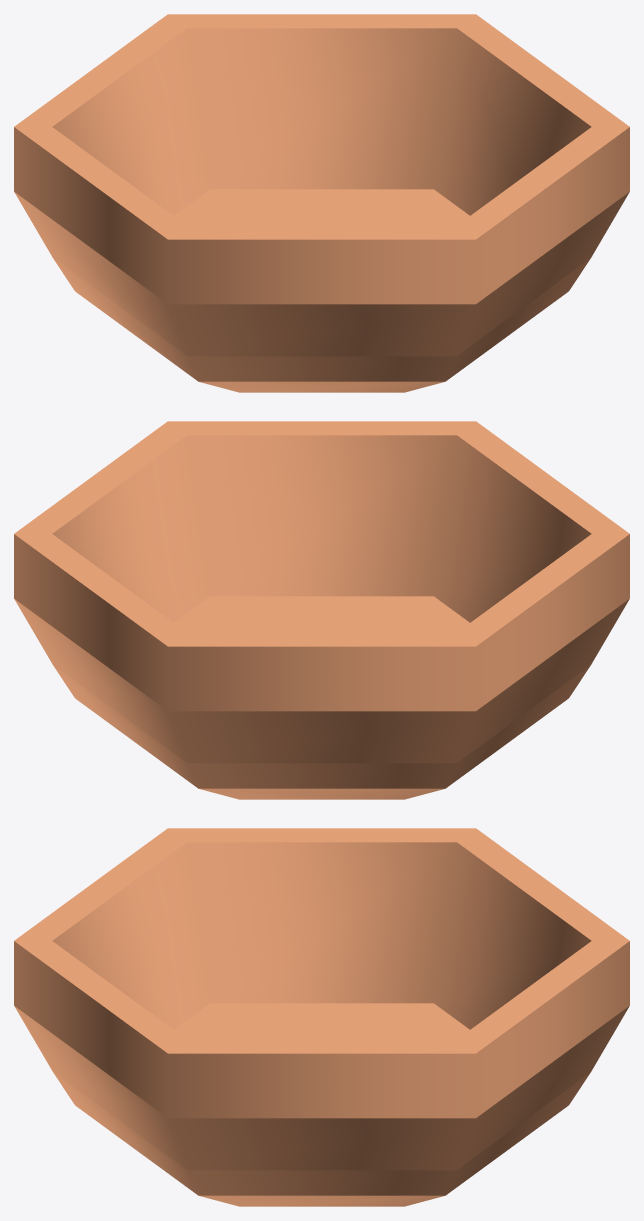
Rendered from saladBowl.glb.
3 renders of one model, top to bottom at view 1: azimuth 30°, elevation 25°; view 2: azimuth 150°, elevation 25°; view 3: azimuth 270°, elevation 25°, orthographic.
Parts seen in each view (by area): view 1: saladBowl; view 2: saladBowl; view 3: saladBowl.
Part boxes in pixels (box(x1,y1,x2,y2)): saladBowl: box(14, 14, 629, 392); saladBowl: box(14, 421, 629, 799); saladBowl: box(14, 828, 629, 1206).
Bounding box in the file's own units: 0.5022 × 0.2138 × 0.5798.
